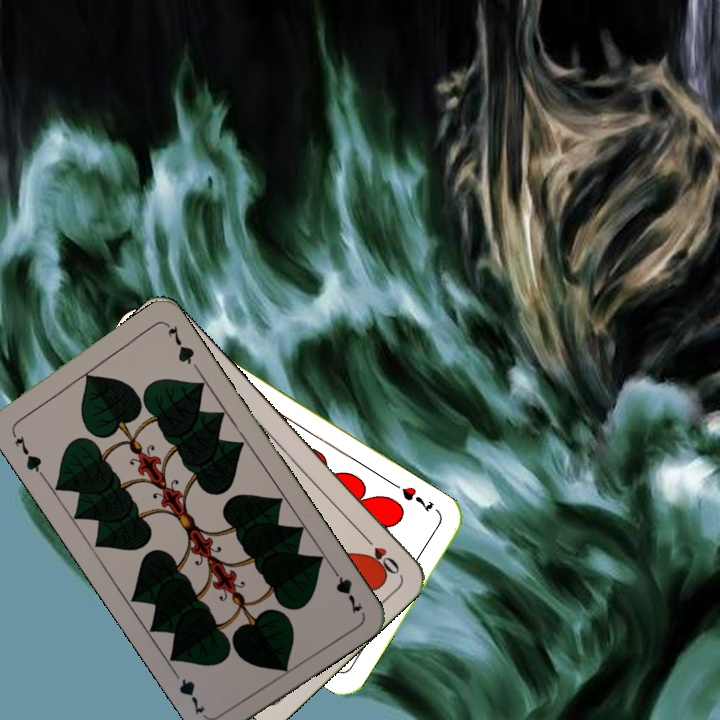G7: (326, 561, 366, 617), (8, 426, 47, 479)
H7: (398, 482, 436, 515)
HO: (358, 530, 403, 578)
